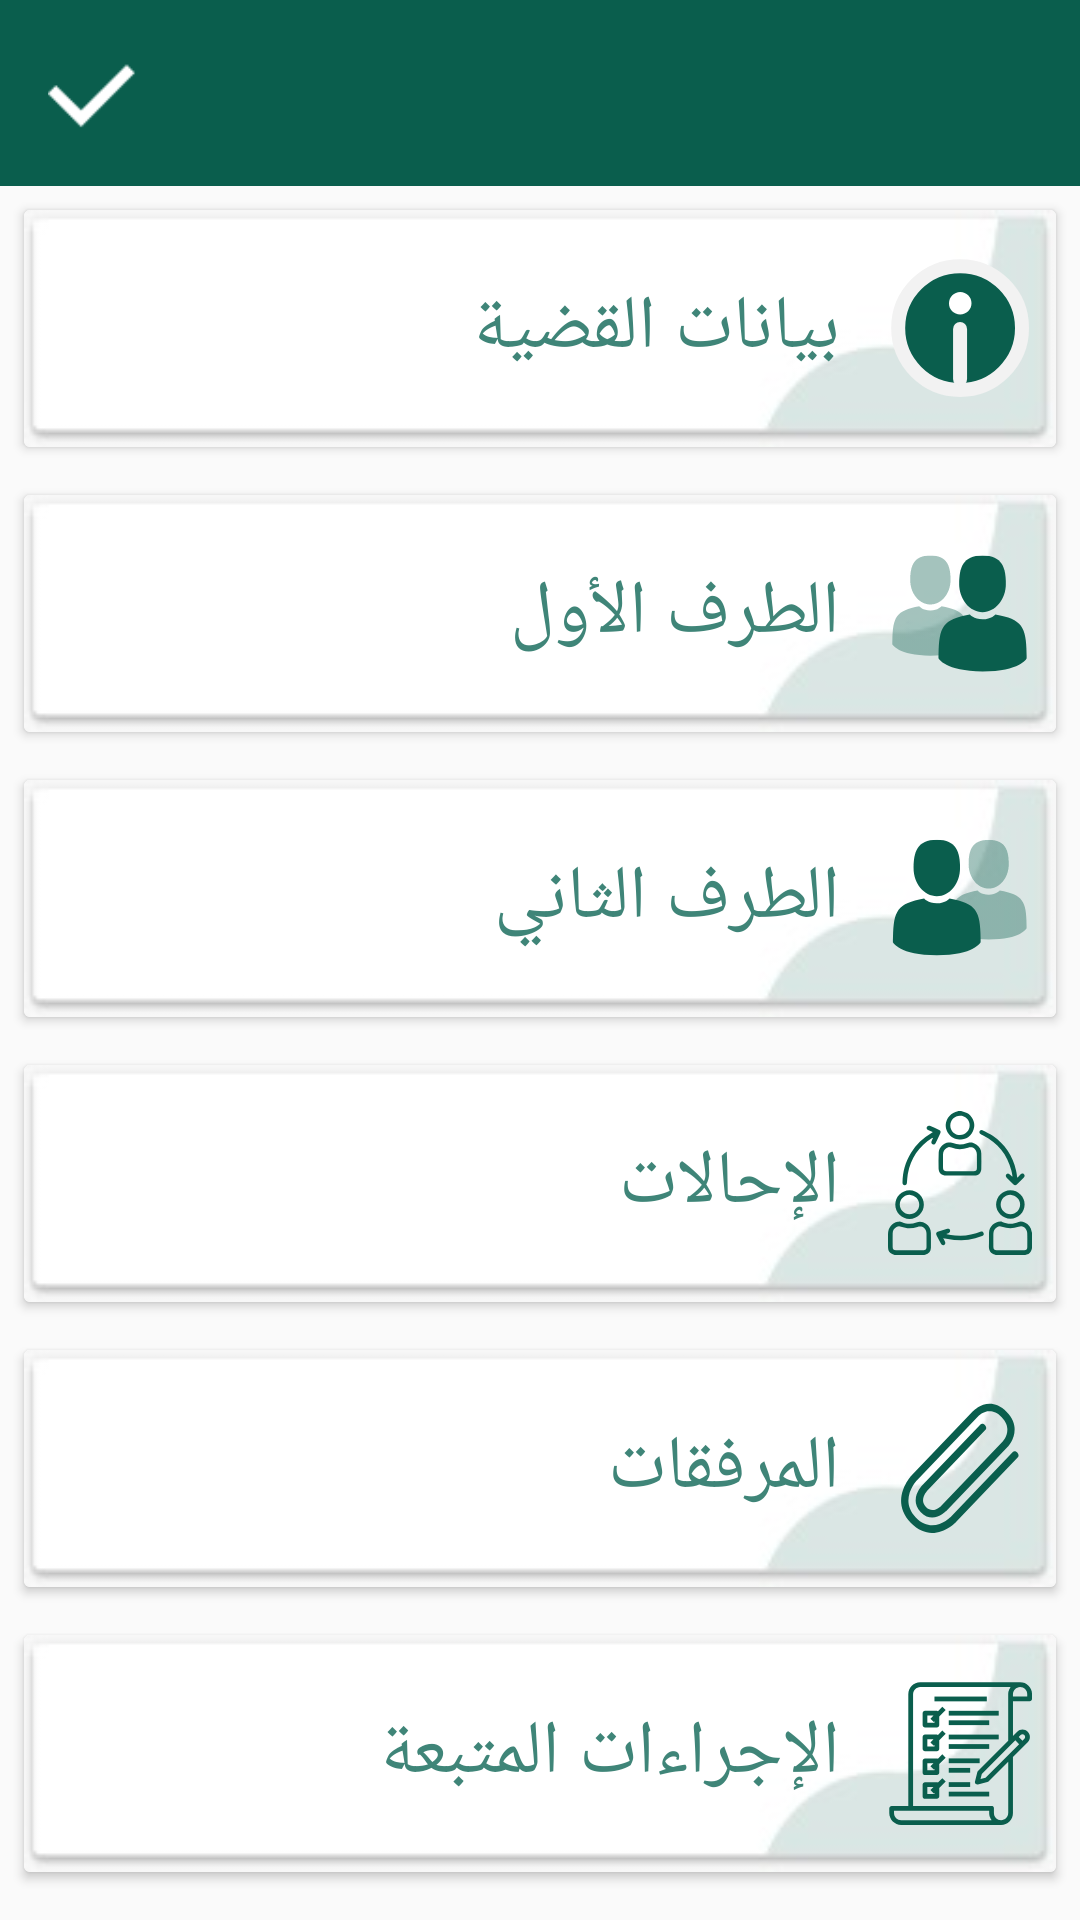

Icons on this 1080 x 1920 Android screen, each with its box as (x1, y1, x2, y2):
attach: (888, 1396, 1019, 1533)
egraa: (888, 1681, 1032, 1825)
info: (888, 256, 1028, 396)
referral: (888, 1111, 1032, 1255)
right: (48, 64, 135, 127)
